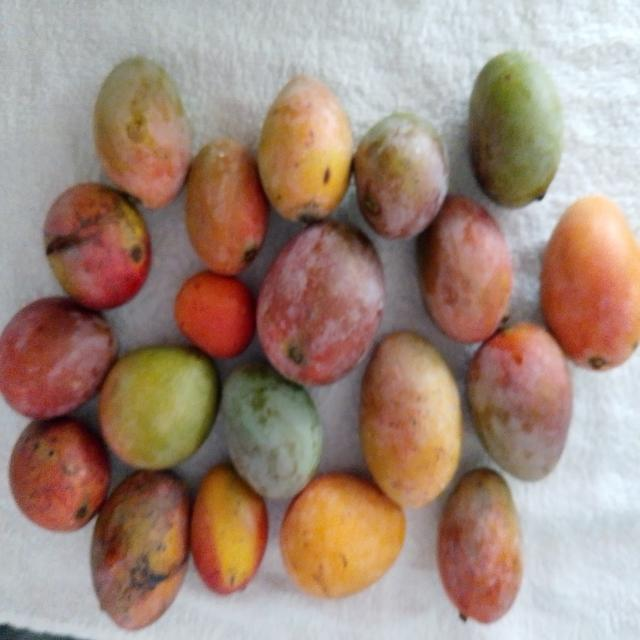mango: (254, 221, 383, 393), (539, 188, 640, 373), (464, 318, 574, 484), (89, 466, 192, 634), (88, 52, 193, 208), (40, 178, 159, 315), (468, 48, 566, 214), (98, 341, 223, 466), (0, 294, 120, 421), (262, 72, 356, 229), (420, 191, 515, 343), (437, 465, 524, 625), (183, 135, 270, 277), (4, 420, 112, 530), (193, 462, 270, 596)
